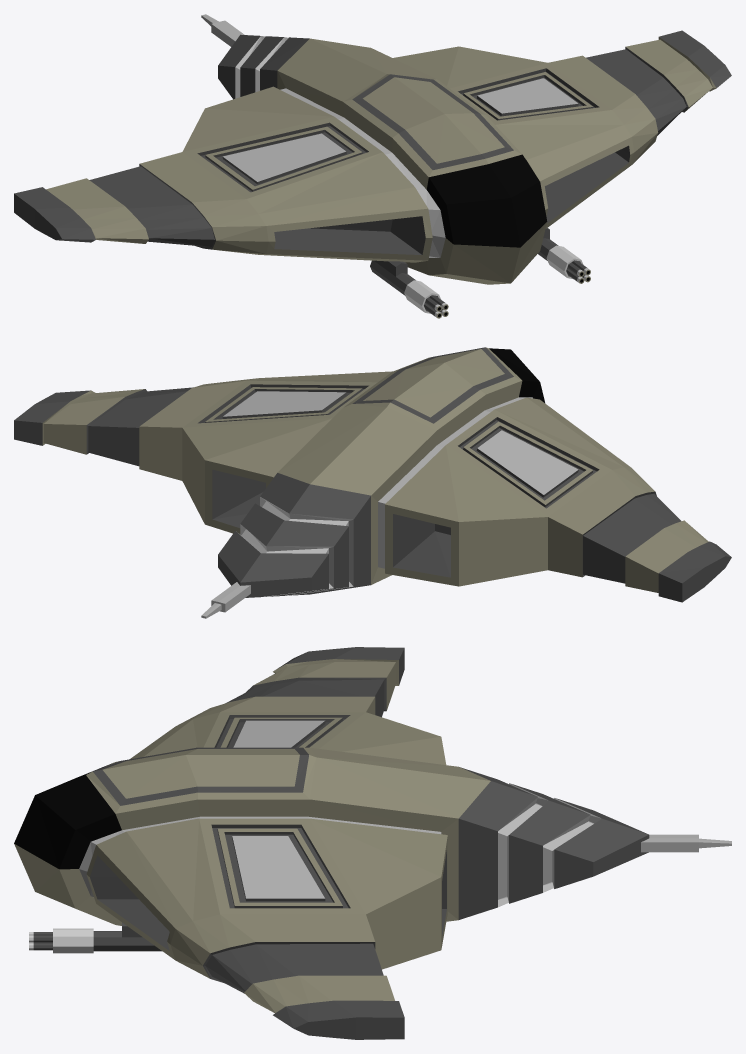
The model's file is Spaceship6_3.fbx.
3 views of the same model, one above another, from view 1: azimuth 30°, elevation 25°; view 2: azimuth 150°, elevation 25°; view 3: azimuth 270°, elevation 25° (orthographic). The views are drawn at different scales.
Visible parts, largest first — view 1: Spaceship6_3; view 2: Spaceship6_3; view 3: Spaceship6_3.
Part boxes in pixels (x1=…): Spaceship6_3: x1=14, y1=14, x2=731, y2=318; Spaceship6_3: x1=14, y1=347, x2=731, y2=618; Spaceship6_3: x1=14, y1=647, x2=731, y2=1039.
Bounding box in the file's own units: 1430 × 314 × 1171.
